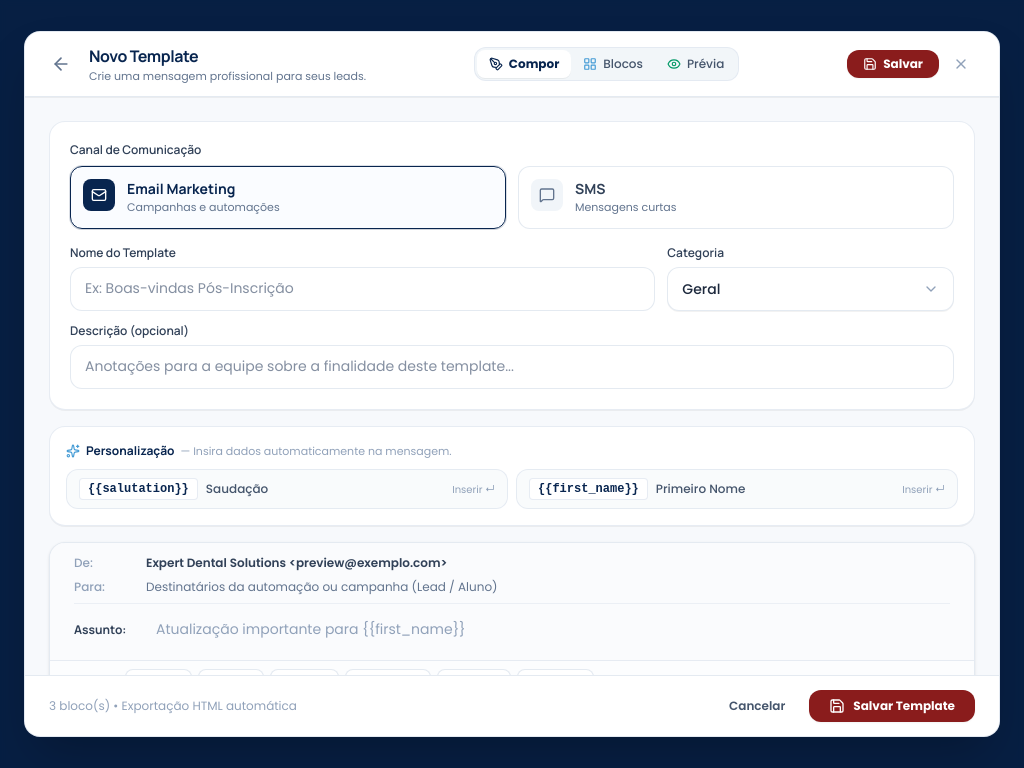
it: EDS HUB — Template Editor Premium Redesign: Component & UX Tests › TemplateEditorModal: Email Composer › switches seamlessly to Prévia mode with Desktop and Mobile toggle
Click Prévia tab
Click the button "Prévia". click: x=696, y=64
box: x1=655 y1=50 x2=736 y2=78
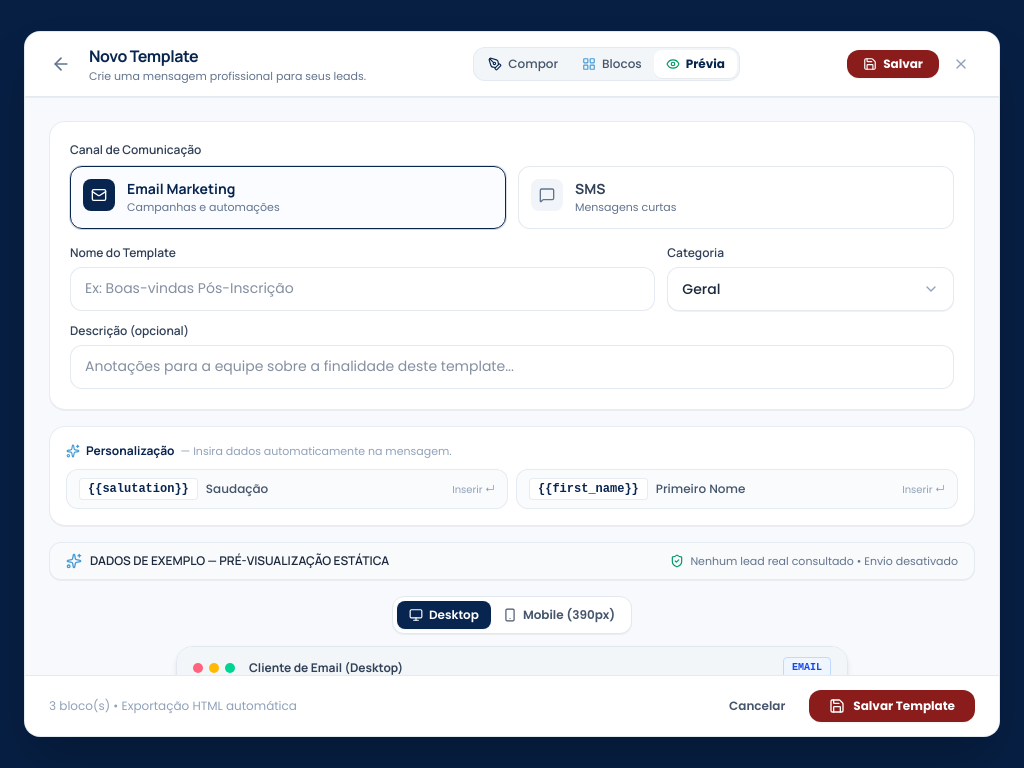
expect the text "DADOS DE EXEMPLO — PRÉ-VISUALIZAÇÃO ESTÁTICA" is shown: met, box x1=90 y1=553 x2=389 y2=569
expect the text "Nenhum lead real consultado • Envio desativado" is shown: met, box x1=690 y1=554 x2=958 y2=569
expect the button "Desktop" is shown: met, box x1=397 y1=601 x2=491 y2=629
Toggle to Mobile
Click the button "Mobile (390px)". click: x=559, y=615
box: x1=491 y1=601 x2=627 y2=629
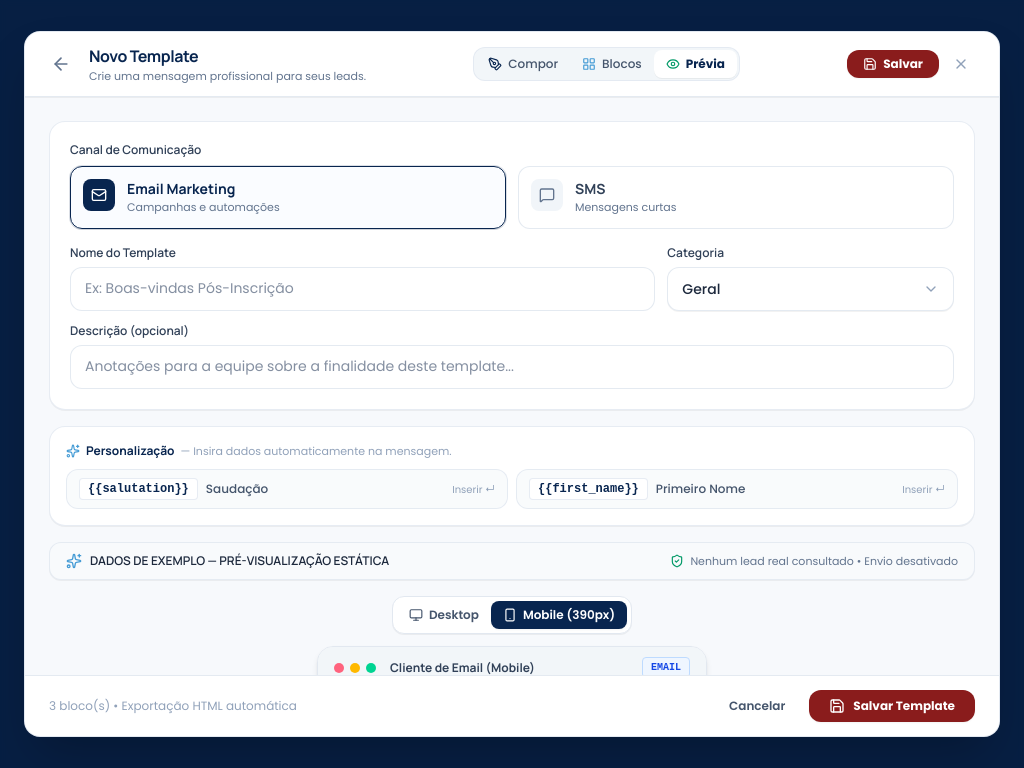
expect the text "Cliente de Email (Mobile)" is shown: met, box x1=390 y1=660 x2=535 y2=675
